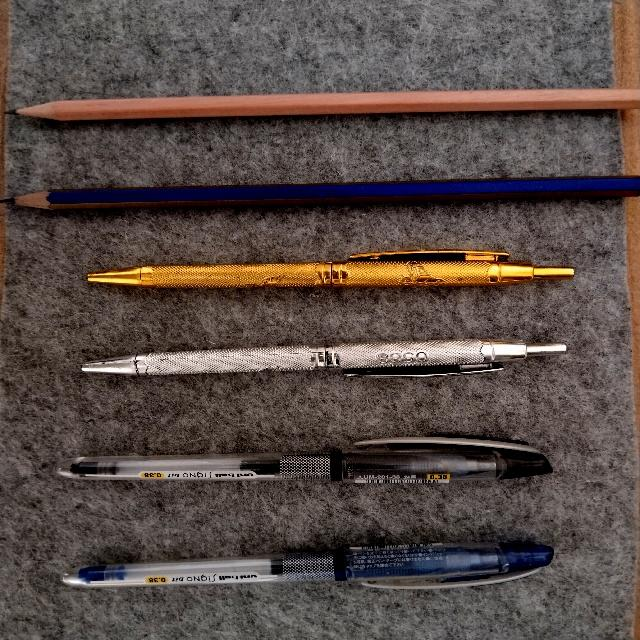pen: (57, 437, 551, 483), (62, 542, 553, 588)
pencil: (6, 176, 639, 209), (17, 88, 639, 120)
signature pen: (88, 250, 573, 287), (82, 339, 565, 376)
